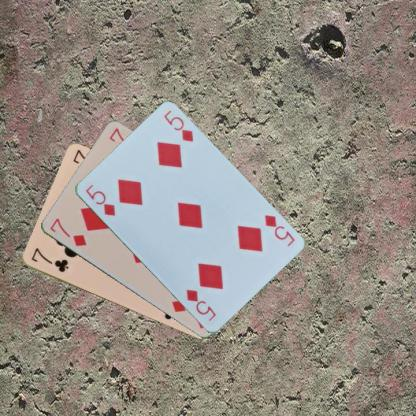5d: (261, 212, 296, 247), (82, 182, 116, 218)
7c: (29, 245, 70, 274)
7d: (47, 215, 88, 248)
